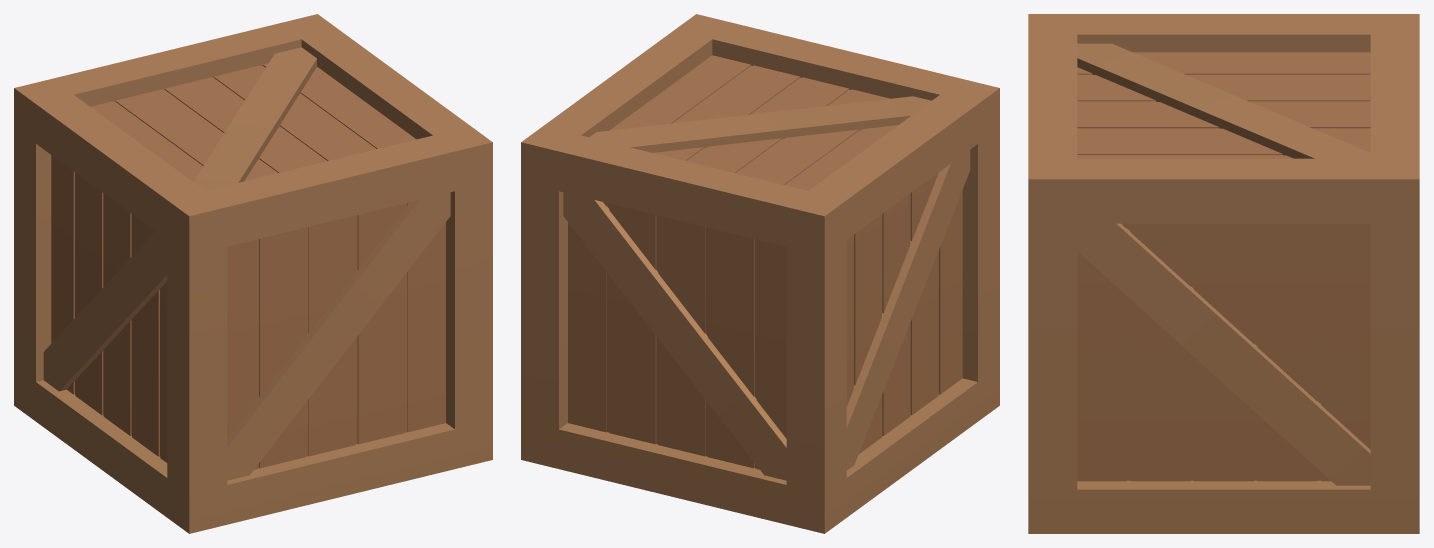
Rendered from SM_Crate_01.gltf.
The picture shows the model from 3 angles, left to right: view 1: azimuth 30°, elevation 25°; view 2: azimuth 150°, elevation 25°; view 3: azimuth 270°, elevation 25°; orthographic projection. The views are drawn at different scales.
Visible parts, largest first — view 1: SM_Crate_01; view 2: SM_Crate_01; view 3: SM_Crate_01.
Part boxes in pixels (x1,y1,x2,y2): SM_Crate_01: (14,14,492,533); SM_Crate_01: (521,14,999,533); SM_Crate_01: (1028,14,1419,533).
Size of the model in its own units: 1 by 1 by 1.
